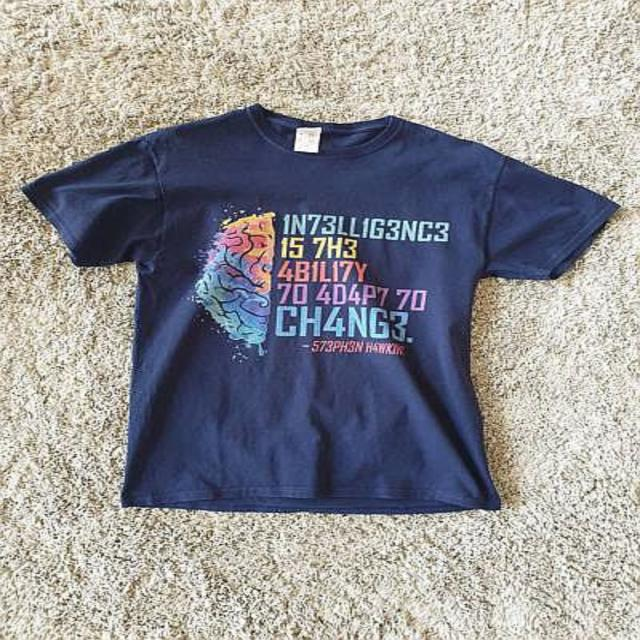T_SHIRT: (14, 95, 627, 522)
